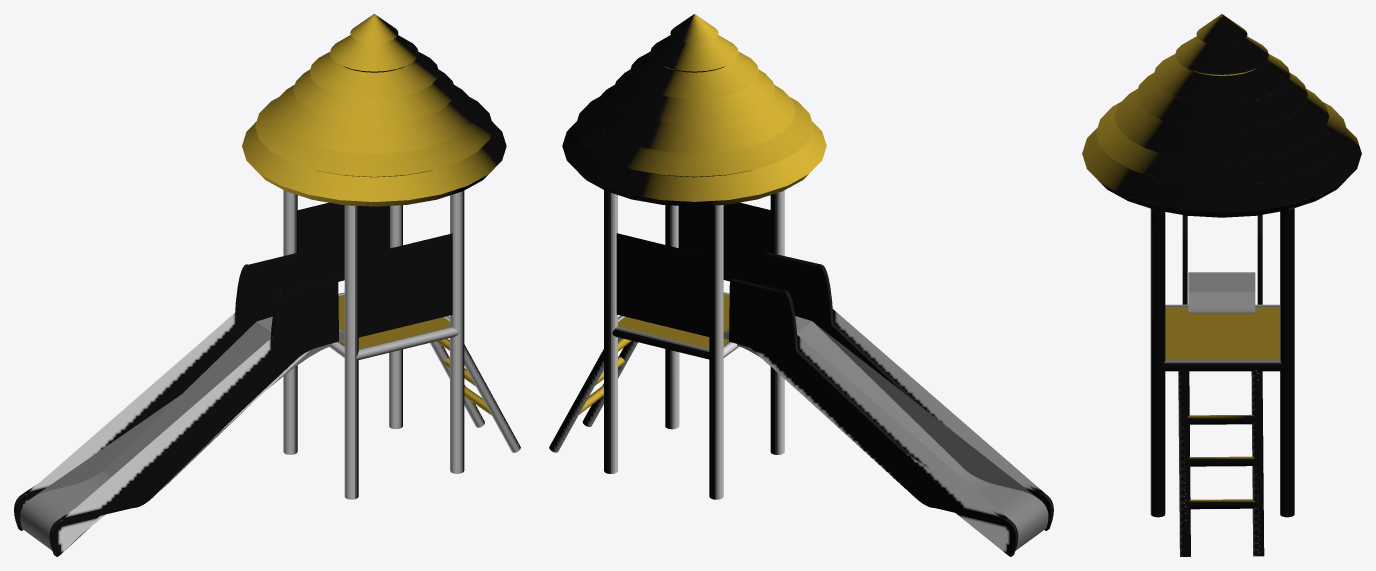
Rendered from slide.fbx.
The picture shows the model from 3 angles, left to right: view 1: azimuth 30°, elevation 25°; view 2: azimuth 150°, elevation 25°; view 3: azimuth 270°, elevation 25°; orthographic projection. The views are drawn at different scales.
Visible parts, largest first — view 1: Slide; view 2: Slide; view 3: Slide.
Part boxes in pixels (x1,y1,x2,y2): Slide: (14,14,520,556); Slide: (549,14,1053,556); Slide: (1082,14,1361,556).
Size of the model in its own units: 154 by 143 by 75.41.
Materials: 2 (1 with a texture image).
